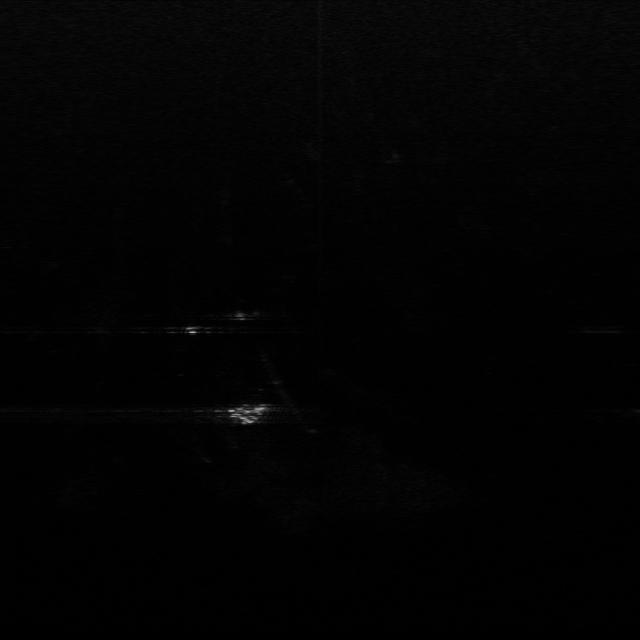rov: (224, 402, 270, 427)
